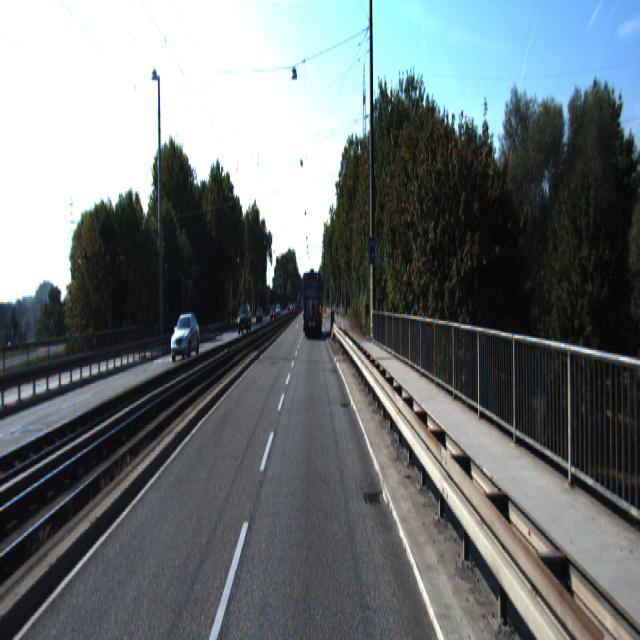Car: (169, 315, 201, 364), (304, 270, 324, 339), (238, 304, 252, 336)
